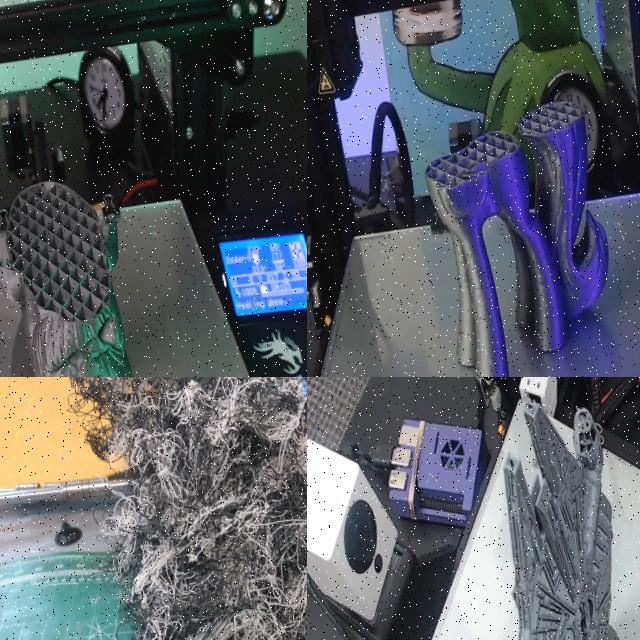spaghetti: (66, 377, 307, 640)
